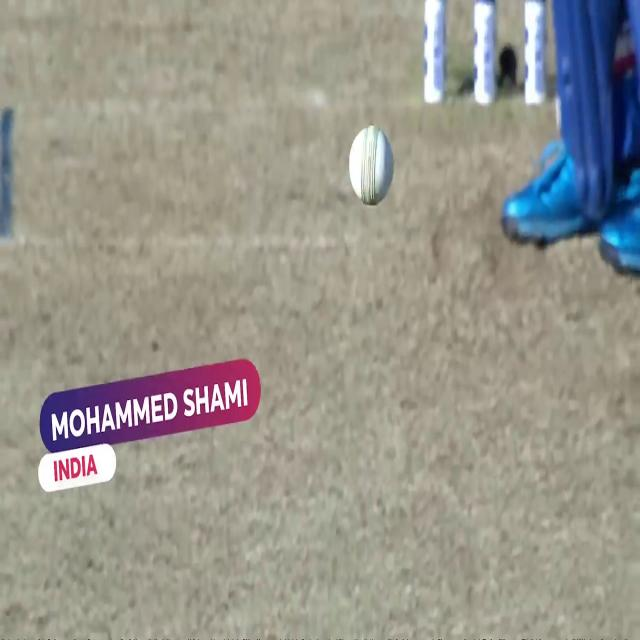ball: (348, 125, 395, 207)
